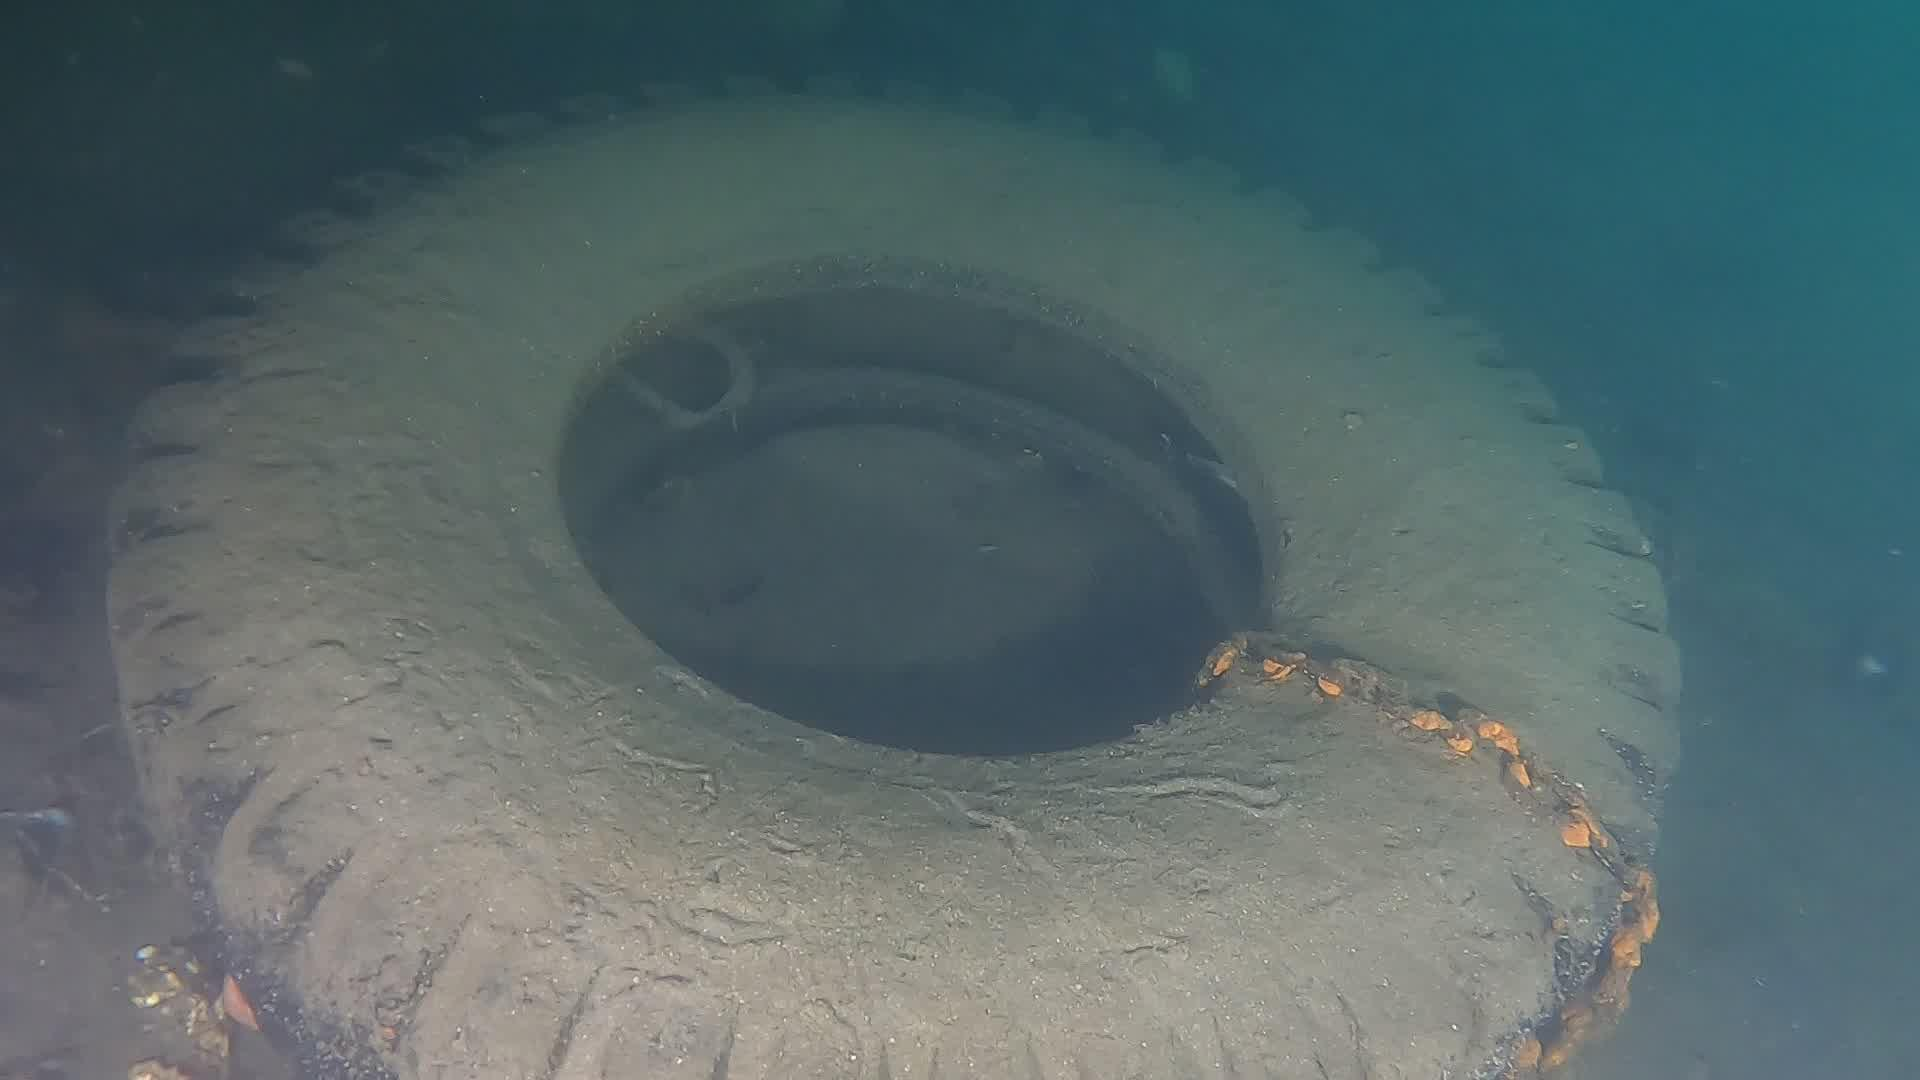tire: (104, 67, 1689, 1080)
